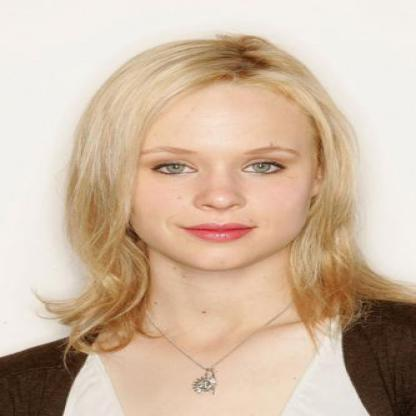long-hair: (78, 270, 378, 337)
